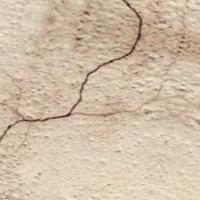crack: (1, 0, 154, 142)
